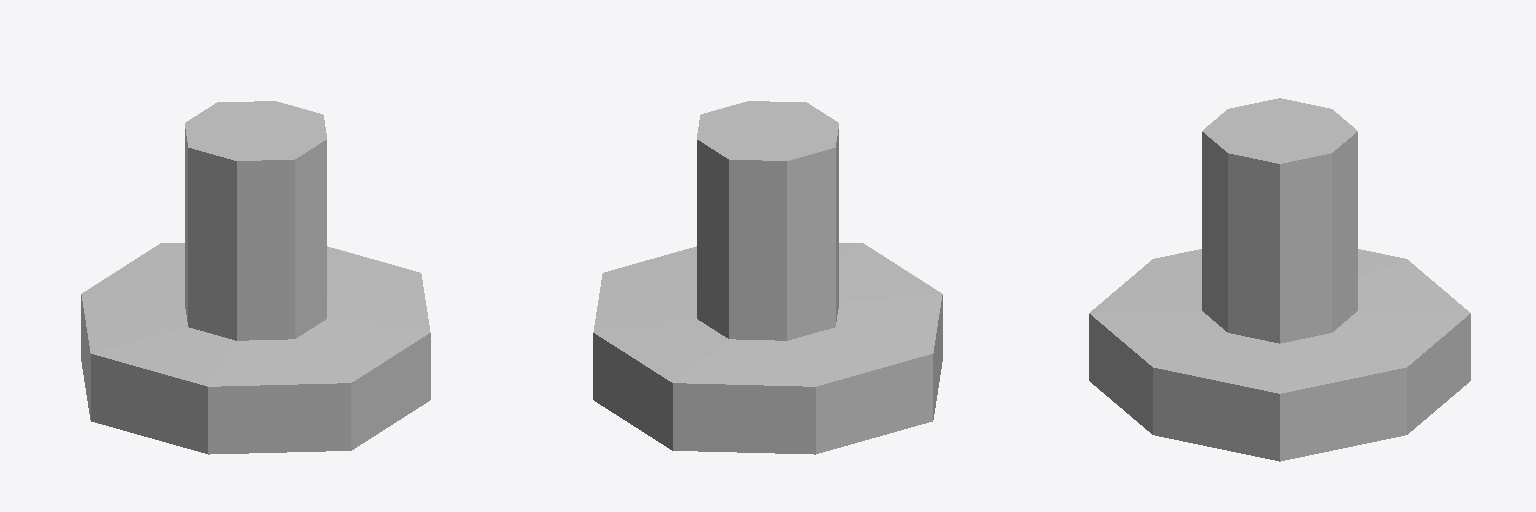
The model's file is cannon_base.obj.
3 views of the same model, side by side, from view 1: azimuth 30°, elevation 25°; view 2: azimuth 150°, elevation 25°; view 3: azimuth 270°, elevation 25° (orthographic).
Visible parts, largest first — view 1: Cube; view 2: Cube; view 3: Cube.
Boxes of the visible parts, x1=… form: Cube: x1=81, y1=101, x2=430, y2=454; Cube: x1=593, y1=101, x2=942, y2=454; Cube: x1=1089, y1=98, x2=1470, y2=461.
Size of the model in its own units: 0.6289 by 0.4541 by 0.6289.